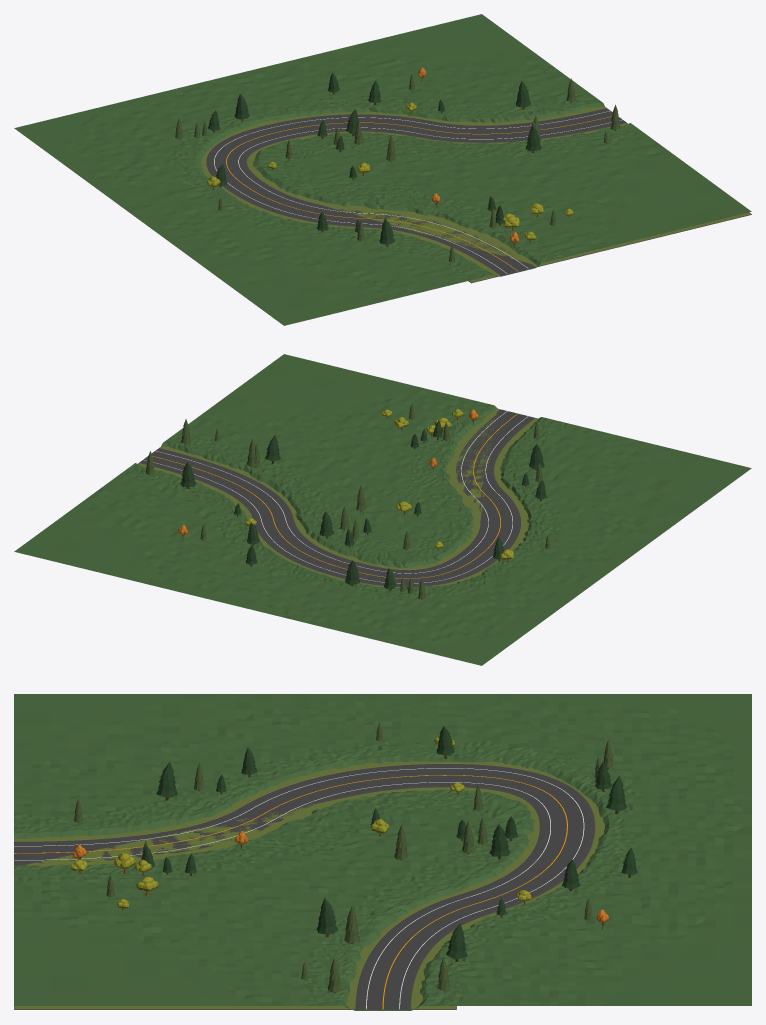
The model's file is ForestRoadLeft5.fbx.
3 renders of one model, top to bottom at view 1: azimuth 30°, elevation 25°; view 2: azimuth 150°, elevation 25°; view 3: azimuth 270°, elevation 25°, orthographic. The views are drawn at different scales.
Visible parts, largest first — view 1: FRL5Plane, FRL5Road; view 2: FRL5Plane, FRL5Road; view 3: FRL5Plane, FRL5Road.
Part boxes in pixels (left/top/right/bottom): FRL5Plane: left=14, top=14, right=751, bottom=325; FRL5Road: left=200, top=106, right=751, bottom=283; FRL5Plane: left=14, top=354, right=751, bottom=665; FRL5Road: left=137, top=408, right=538, bottom=587; FRL5Plane: left=14, top=694, right=751, bottom=1010; FRL5Road: left=14, top=761, right=604, bottom=1009.
Size of what is drawn, in the model's own units: 40000 by 2649 by 40000.
